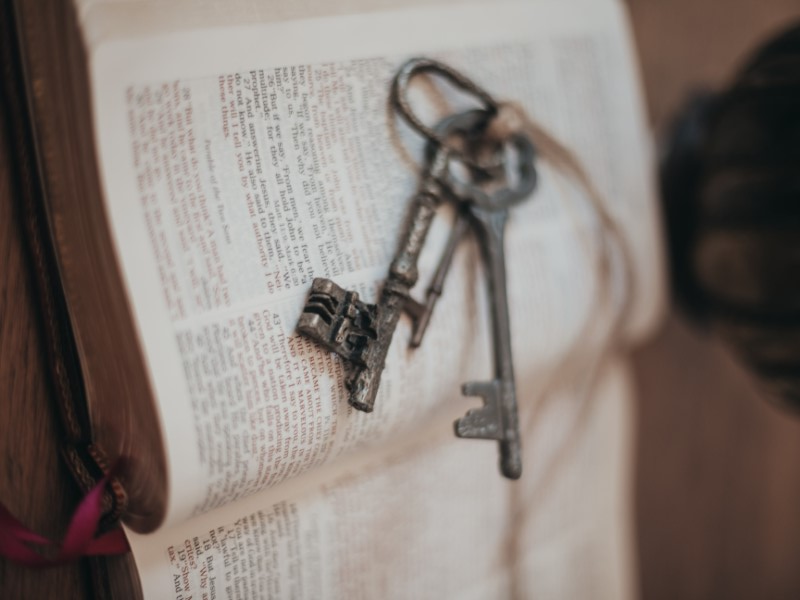key: (292, 57, 507, 417), (443, 127, 539, 482)
